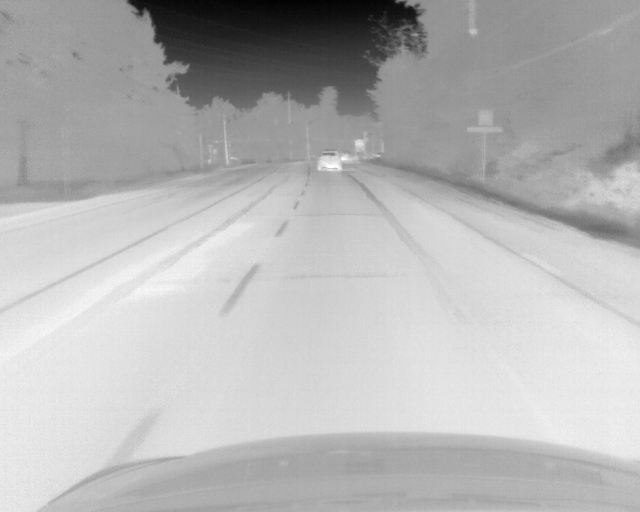car: (316, 149, 341, 173)
